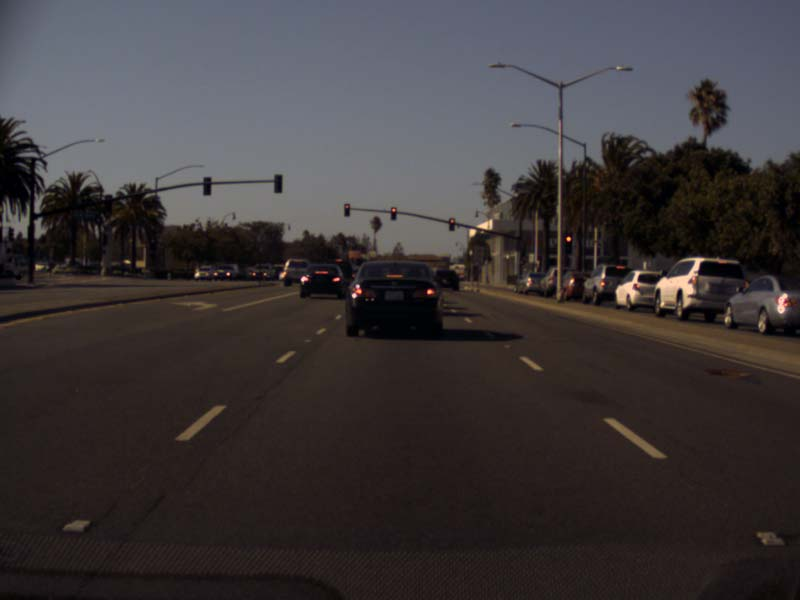Red: (564, 233, 571, 253), (390, 206, 396, 220), (449, 217, 454, 230), (344, 203, 349, 216)
